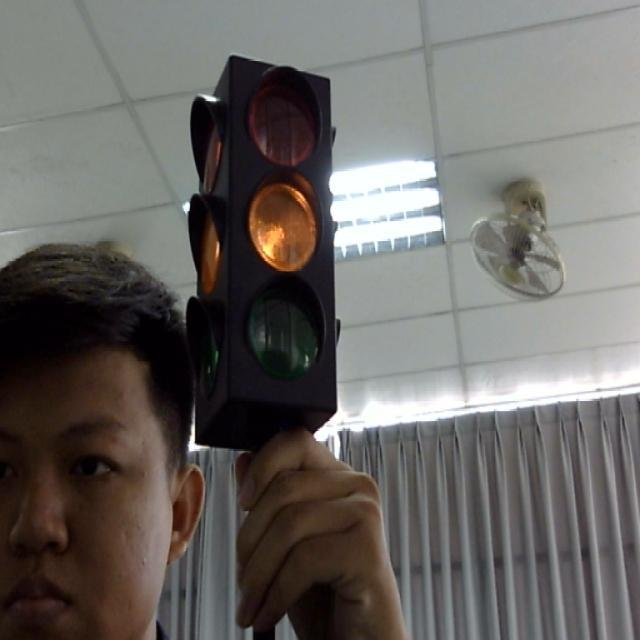yellow_light: (173, 39, 356, 449)
